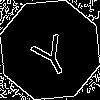Y: (25, 25, 75, 81)
